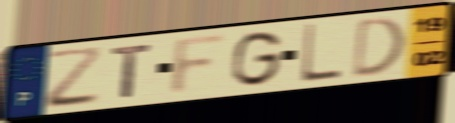D: (349, 14, 408, 81)
F: (166, 30, 232, 99)
G: (228, 29, 285, 89)
L: (298, 21, 344, 86)
T: (109, 42, 155, 100)
Z: (45, 44, 105, 111)
